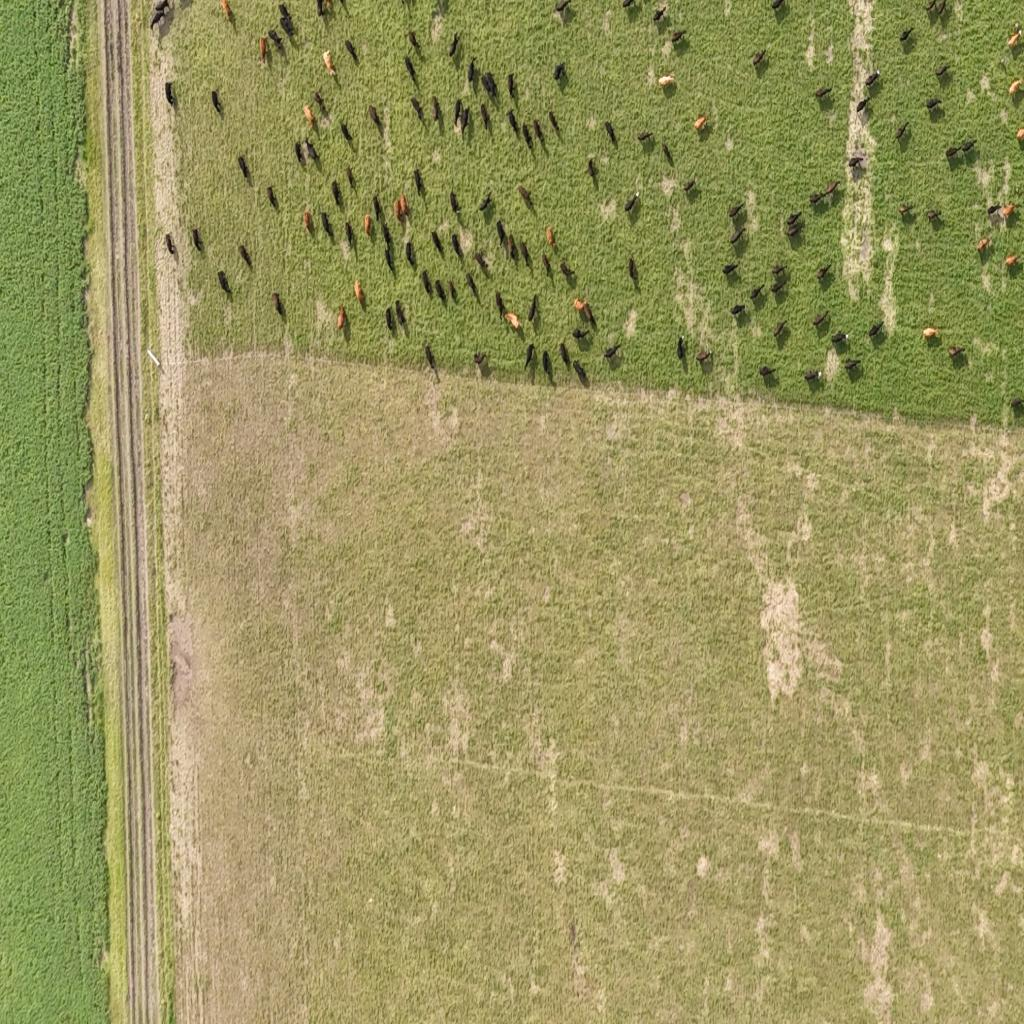cow: (809, 305, 831, 333), (424, 344, 438, 380), (300, 138, 317, 166), (784, 211, 803, 236), (268, 28, 285, 54), (279, 16, 296, 40), (384, 241, 395, 277), (237, 153, 250, 183), (573, 360, 588, 386), (460, 104, 472, 136), (322, 50, 336, 77), (483, 68, 497, 95), (925, 0, 946, 18), (770, 274, 787, 296), (405, 55, 417, 86), (518, 185, 534, 208), (466, 272, 478, 302), (848, 152, 866, 172), (395, 300, 407, 329), (508, 109, 520, 138), (412, 97, 424, 126), (560, 260, 575, 283), (276, 0, 294, 19), (382, 225, 393, 256), (238, 242, 251, 268), (272, 290, 284, 318), (474, 251, 488, 275), (527, 293, 538, 323), (405, 239, 416, 269), (478, 191, 493, 213), (149, 0, 174, 13), (321, 211, 333, 238), (453, 100, 463, 132), (729, 226, 745, 246), (148, 12, 164, 32), (414, 168, 425, 197), (624, 193, 639, 214), (218, 270, 230, 296), (524, 344, 536, 370), (369, 104, 381, 130), (584, 301, 596, 327), (430, 229, 442, 255), (435, 278, 447, 304), (340, 121, 353, 145), (496, 291, 506, 322), (520, 238, 531, 266), (496, 219, 507, 247), (504, 312, 521, 330), (604, 343, 621, 361), (815, 264, 832, 282), (945, 144, 961, 163), (345, 39, 357, 64), (1006, 28, 1021, 48), (302, 104, 315, 127), (421, 270, 432, 297), (220, 0, 232, 24), (604, 120, 616, 144), (313, 90, 325, 114), (548, 109, 560, 133), (652, 4, 668, 22), (843, 357, 861, 373), (728, 202, 744, 220), (959, 139, 977, 155), (824, 180, 840, 198), (814, 85, 832, 101), (772, 321, 788, 339), (191, 227, 202, 253), (449, 189, 460, 215), (407, 30, 420, 52), (165, 81, 175, 109), (628, 256, 638, 284), (560, 342, 570, 370), (332, 180, 342, 208), (467, 58, 477, 86), (522, 124, 532, 152), (480, 101, 489, 132), (533, 118, 544, 143), (553, 62, 566, 83), (554, 0, 571, 16), (867, 322, 884, 338), (730, 302, 747, 318), (722, 262, 739, 278), (506, 233, 516, 260), (507, 71, 517, 98), (432, 96, 441, 126), (572, 327, 590, 342), (752, 49, 767, 67), (865, 70, 880, 88), (750, 283, 765, 301), (543, 349, 552, 378), (211, 90, 221, 116), (354, 279, 364, 305), (542, 252, 552, 278), (346, 165, 356, 191), (452, 232, 462, 258), (696, 350, 712, 366), (770, 263, 786, 279), (677, 334, 686, 362), (345, 220, 354, 248), (804, 368, 822, 382), (758, 366, 776, 380), (831, 330, 849, 344), (449, 33, 459, 58), (856, 97, 869, 116), (294, 140, 303, 167), (165, 232, 175, 256), (474, 351, 486, 371), (267, 186, 277, 210), (386, 306, 394, 336), (670, 29, 685, 45), (637, 130, 653, 145), (448, 278, 458, 302), (935, 63, 951, 78), (620, 0, 640, 12), (899, 25, 913, 42), (400, 194, 409, 220), (662, 141, 672, 164), (987, 203, 1002, 218), (809, 190, 824, 205), (259, 36, 267, 64), (693, 115, 707, 131), (923, 326, 939, 340), (373, 194, 381, 222), (948, 344, 964, 358), (926, 208, 942, 222), (925, 98, 941, 112), (337, 306, 346, 330), (896, 122, 908, 140), (546, 225, 556, 246), (588, 158, 598, 179), (1001, 204, 1016, 218), (898, 202, 912, 217), (978, 236, 991, 252), (658, 74, 674, 87), (683, 176, 696, 192), (394, 196, 402, 221), (573, 297, 587, 311), (364, 214, 372, 238), (303, 209, 311, 233), (316, 0, 326, 19), (1005, 254, 1019, 266), (770, 0, 784, 12), (1016, 78, 1024, 97), (321, 1, 331, 15), (1016, 398, 1024, 412), (1019, 127, 1024, 143)
